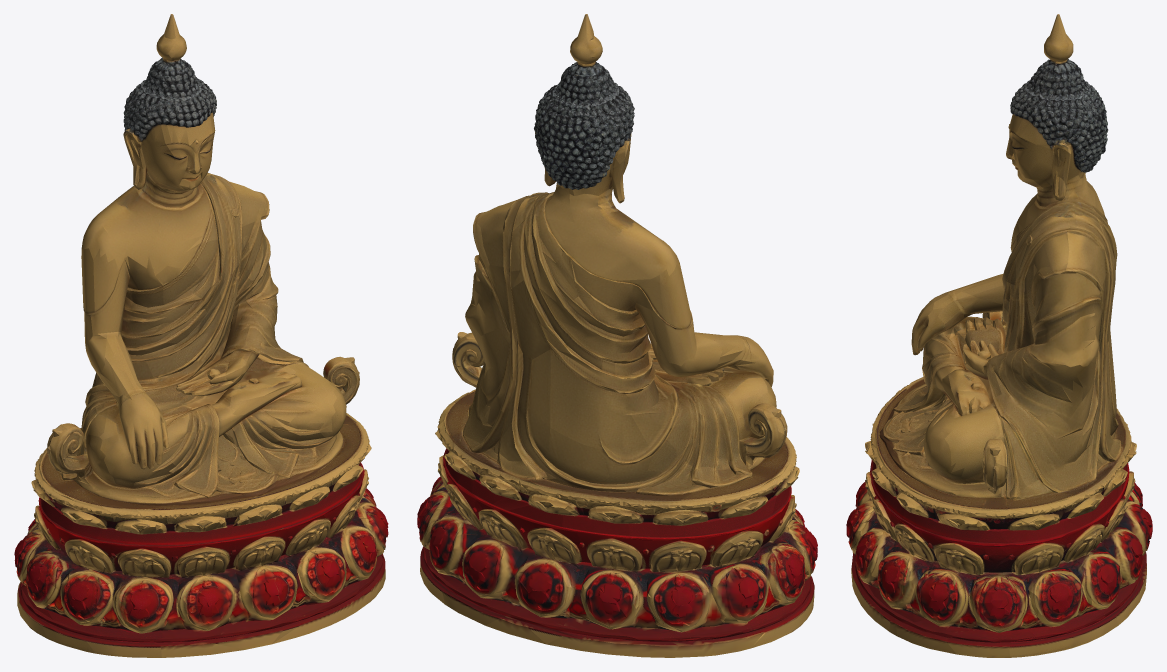
Rendered from phat-thich-ca-chanh-dien.glb.
3 renders of one model, left to right at view 1: azimuth 30°, elevation 25°; view 2: azimuth 150°, elevation 25°; view 3: azimuth 270°, elevation 25°, orthographic. The views are drawn at different scales.
Bounding box in the file's own units: 1.22 × 1.9 × 0.942.
1 material, 1 textured.
